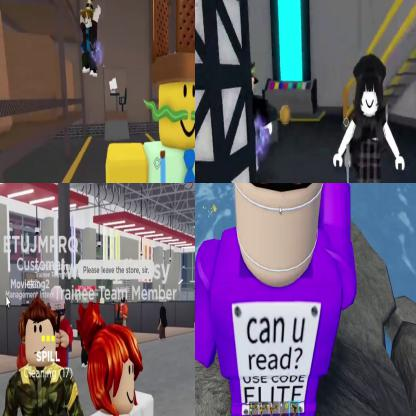Roblox-Avatar: (196, 184, 360, 416), (107, 1, 195, 183), (67, 300, 159, 416), (1, 295, 87, 416), (334, 55, 406, 183), (50, 286, 75, 367), (79, 1, 103, 78), (159, 307, 169, 341)
